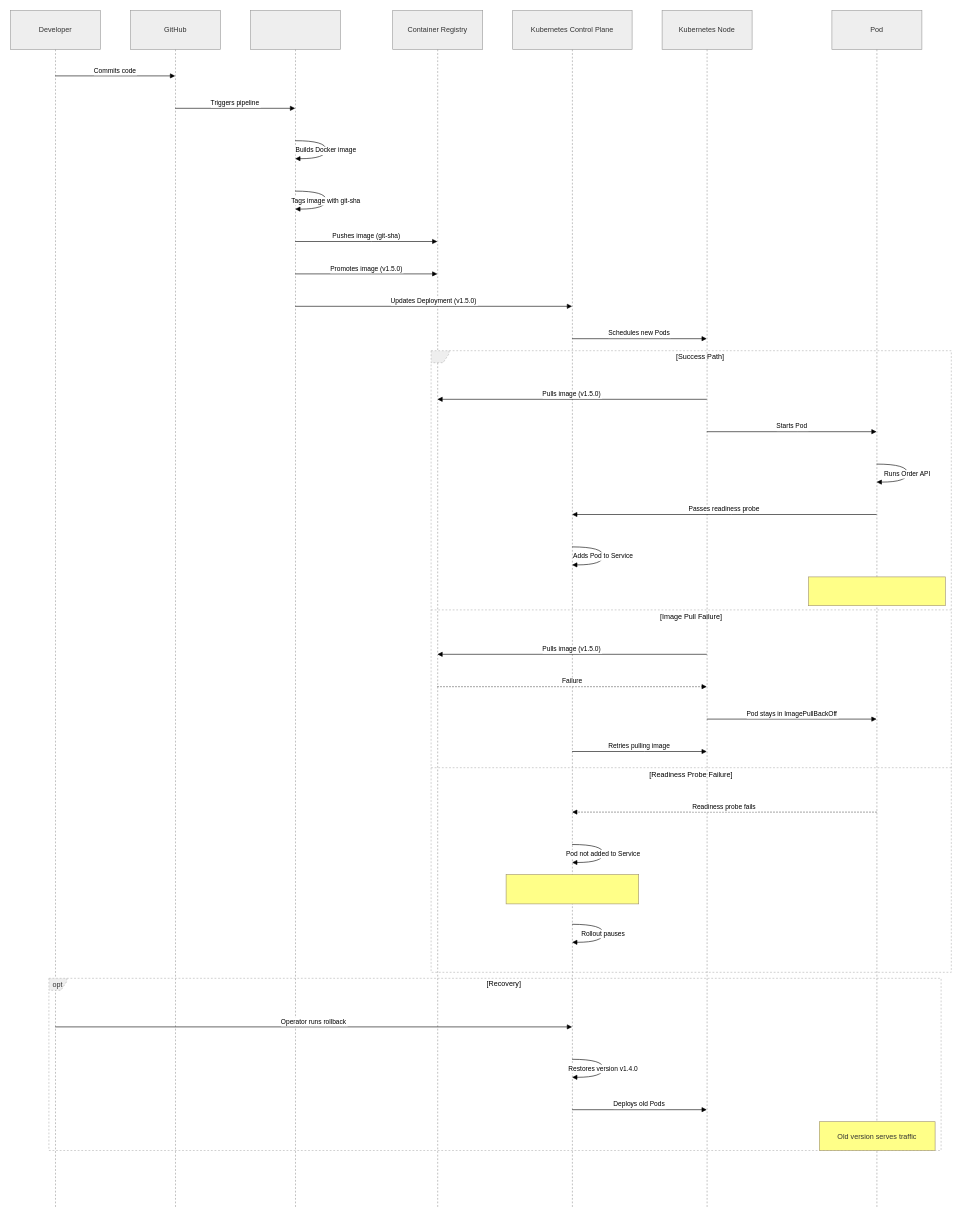
The diagram is 962 pixels wide and 1218 high, and some of its shapes have lost their labels. The shapes that lost their labels are listed below. From the top down, each one's box as (x1, y1, x2, y2) in pixels, then its label:
(250, 10, 340, 1208): CI Runner
(808, 576, 945, 606): Users traffic flows to new Pod
(430, 350, 951, 972): alt
(506, 874, 639, 904): Old Pods (v1.4.0) serve traffic
